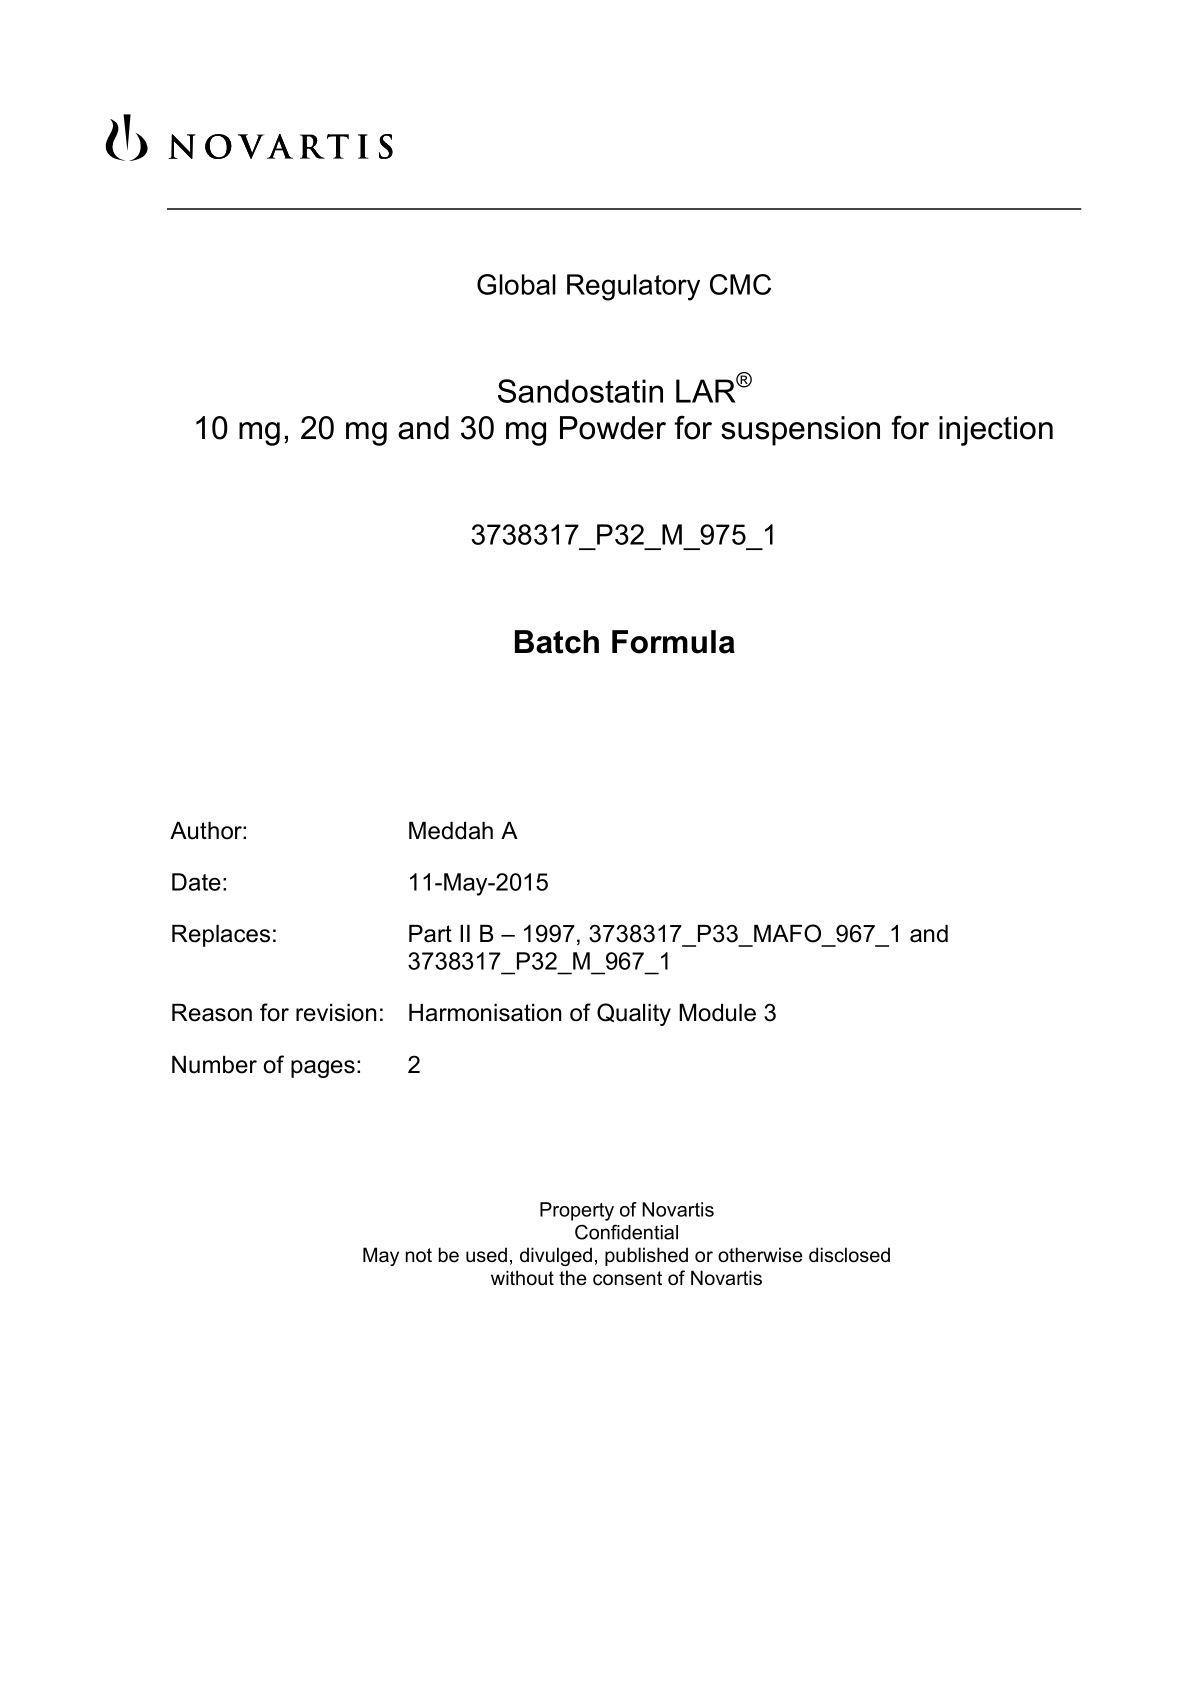nolines: (169, 817, 953, 1081)
